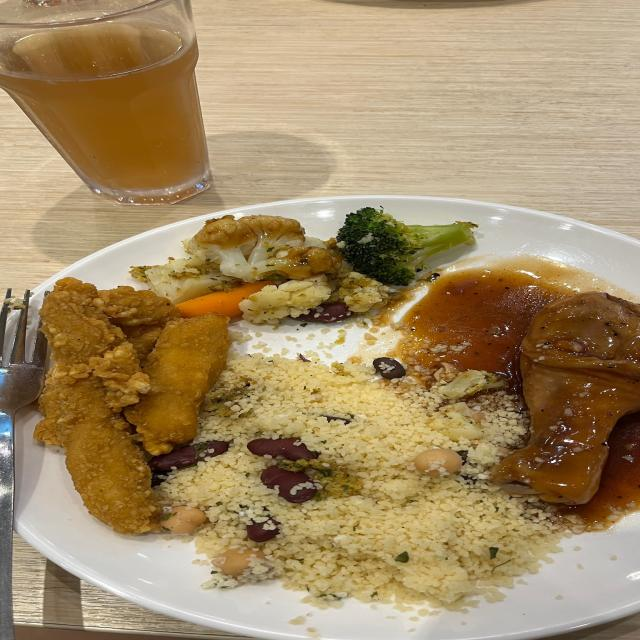Chicken: (498, 292, 640, 512)
Fish: (34, 279, 230, 534)
Non green veg: (130, 215, 387, 324), (336, 208, 477, 286)
